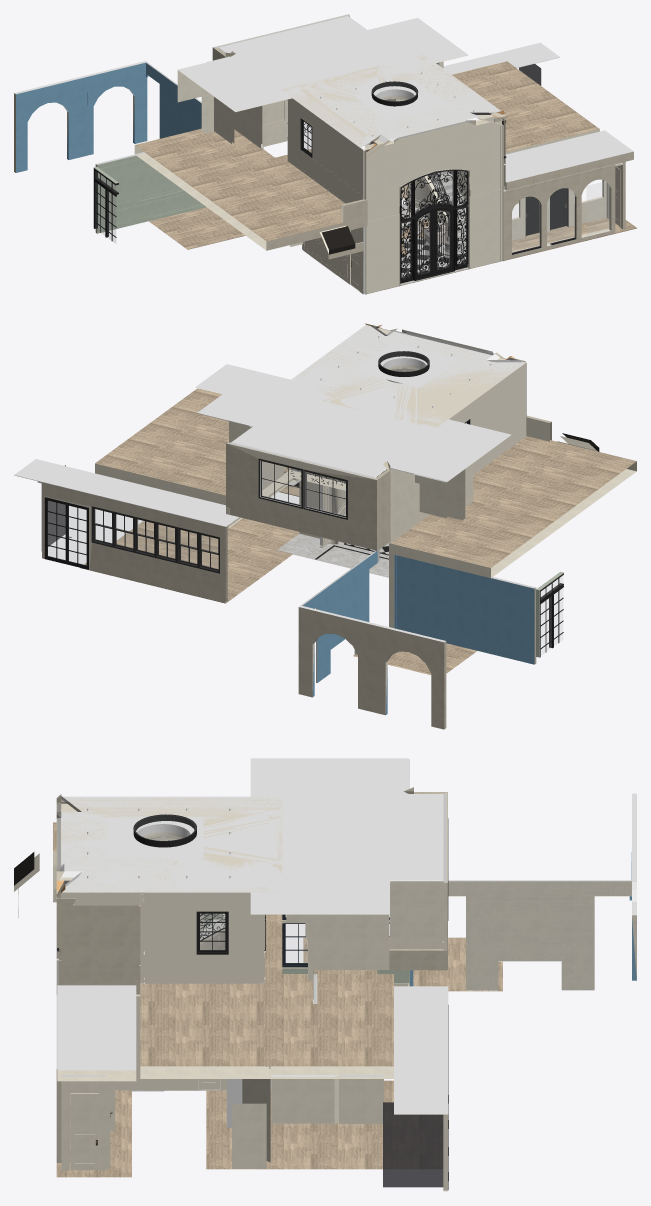
File: entry-2b1be3679dfa.glb
The picture shows the model from 3 angles, top to bottom: view 1: azimuth 30°, elevation 25°; view 2: azimuth 150°, elevation 25°; view 3: azimuth 270°, elevation 25°; orthographic projection. The views are drawn at different scales.
Visible parts, largest first — view 1: entry-look-2575515a05775d9e, entry-look-9d91b47435c6fb33, entry-9d91b47435c6fb33, entry-4edf3a9420c06709, entry-look-969b861f9850351e, entry-e8793759323e04f0, entry-9ca48b730e5de4b2, entry-look-b19b106fc304963c, entry-746250f96522f643, entry-look-dbd60ee5c3733ed6, entry-look-c9e78b9ec1bb39cd, entry-785988ccf932ddd5 (+36 smaller); view 2: entry-look-2575515a05775d9e, entry-look-9d91b47435c6fb33, entry-look-b19b106fc304963c, entry-9d91b47435c6fb33, entry-look-969b861f9850351e, entry-look-245f595ae2832e16, entry-look-3b0077416469e01b, entry-look-bfb9fa537cd11d1d, entry-e8793759323e04f0, entry-look-9a0e9ee9b2a451d7, entry-746250f96522f643, entry-look-3e6709f91b43c3bf (+19 smaller); view 3: entry-look-2575515a05775d9e, entry-look-9d91b47435c6fb33, entry-9d91b47435c6fb33, entry-look-3e6709f91b43c3bf, entry-look-3b0077416469e01b, entry-c51ecd664a3b22a3, entry-look-dbd60ee5c3733ed6, entry-e8793759323e04f0, entry-look-9a0e9ee9b2a451d7, entry-62353aa10fc57f23, entry-look-cbd4bf73d9724a66, entry-look-55ff1dfd7b659ec1 (+22 smaller).
Boxes of the visible parts, x1=… form: entry-look-2575515a05775d9e: x1=134, y1=61, x2=599, y2=250; entry-look-9d91b47435c6fb33: x1=178, y1=16, x2=468, y2=112; entry-9d91b47435c6fb33: x1=282, y1=54, x2=500, y2=149; entry-4edf3a9420c06709: x1=365, y1=120, x2=503, y2=221; entry-look-969b861f9850351e: x1=14, y1=61, x2=147, y2=172; entry-e8793759323e04f0: x1=281, y1=55, x2=499, y2=149; entry-9ca48b730e5de4b2: x1=365, y1=189, x2=503, y2=293; entry-look-b19b106fc304963c: x1=95, y1=152, x2=202, y2=233; entry-746250f96522f643: x1=287, y1=98, x2=361, y2=203; entry-look-dbd60ee5c3733ed6: x1=505, y1=130, x2=633, y2=190; entry-look-c9e78b9ec1bb39cd: x1=503, y1=164, x2=615, y2=260; entry-785988ccf932ddd5: x1=366, y1=118, x2=503, y2=220; entry-look-2575515a05775d9e: x1=95, y1=388, x2=636, y2=578; entry-look-9d91b47435c6fb33: x1=197, y1=371, x2=510, y2=481; entry-look-b19b106fc304963c: x1=397, y1=555, x2=536, y2=664; entry-9d91b47435c6fb33: x1=277, y1=325, x2=525, y2=428; entry-look-969b861f9850351e: x1=298, y1=605, x2=446, y2=729; entry-look-245f595ae2832e16: x1=226, y1=442, x2=377, y2=551; entry-look-3b0077416469e01b: x1=80, y1=518, x2=476, y2=674; entry-look-bfb9fa537cd11d1d: x1=42, y1=482, x2=227, y2=602; entry-e8793759323e04f0: x1=279, y1=325, x2=525, y2=427; entry-look-9a0e9ee9b2a451d7: x1=14, y1=459, x2=238, y2=526; entry-746250f96522f643: x1=449, y1=364, x2=524, y2=474; entry-look-3e6709f91b43c3bf: x1=302, y1=551, x2=377, y2=682; entry-look-2575515a05775d9e: x1=53, y1=822, x2=393, y2=1078; entry-look-9d91b47435c6fb33: x1=250, y1=758, x2=442, y2=914; entry-9d91b47435c6fb33: x1=61, y1=796, x2=282, y2=892; entry-look-3e6709f91b43c3bf: x1=448, y1=880, x2=631, y2=989; entry-look-3b0077416469e01b: x1=206, y1=937, x2=502, y2=1169; entry-c51ecd664a3b22a3: x1=145, y1=892, x2=264, y2=983; entry-look-dbd60ee5c3733ed6: x1=57, y1=985, x2=136, y2=1081; entry-e8793759323e04f0: x1=58, y1=794, x2=282, y2=892; entry-look-9a0e9ee9b2a451d7: x1=394, y1=986, x2=448, y2=1114; entry-62353aa10fc57f23: x1=71, y1=892, x2=140, y2=996; entry-look-cbd4bf73d9724a66: x1=383, y1=1102, x2=443, y2=1187; entry-look-55ff1dfd7b659ec1: x1=448, y1=880, x2=631, y2=990.
Bounding box in the file's own units: 21.07 × 7.02 × 18.
67 materials, 11 textured.
